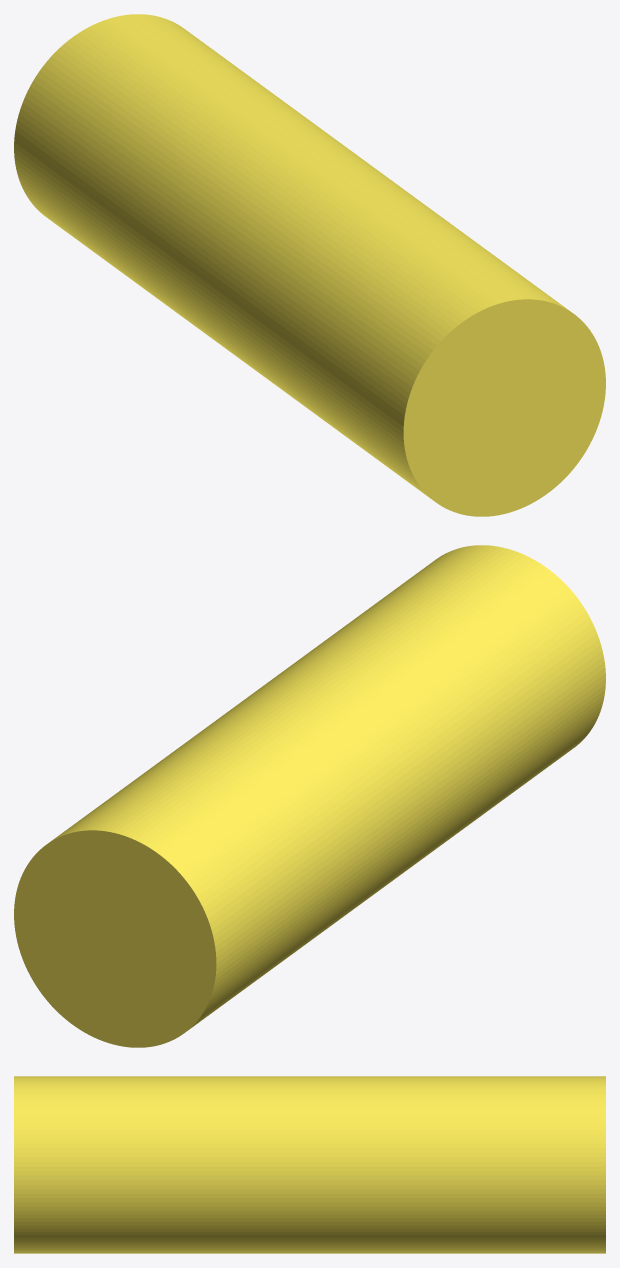
Rendered from ray.obj.
3 renders of one model, top to bottom at view 1: azimuth 30°, elevation 25°; view 2: azimuth 150°, elevation 25°; view 3: azimuth 270°, elevation 25°, orthographic. The views are drawn at different scales.
Parts seen in each view (by area): view 1: Object.1; view 2: Object.1; view 3: Object.1.
Boxes of the visible parts, x1,y1,x2,y2 form: Object.1: [14, 14, 605, 516]; Object.1: [14, 545, 605, 1047]; Object.1: [14, 1076, 605, 1253].
Size of the model in its own units: 30 by 30 by 100.
